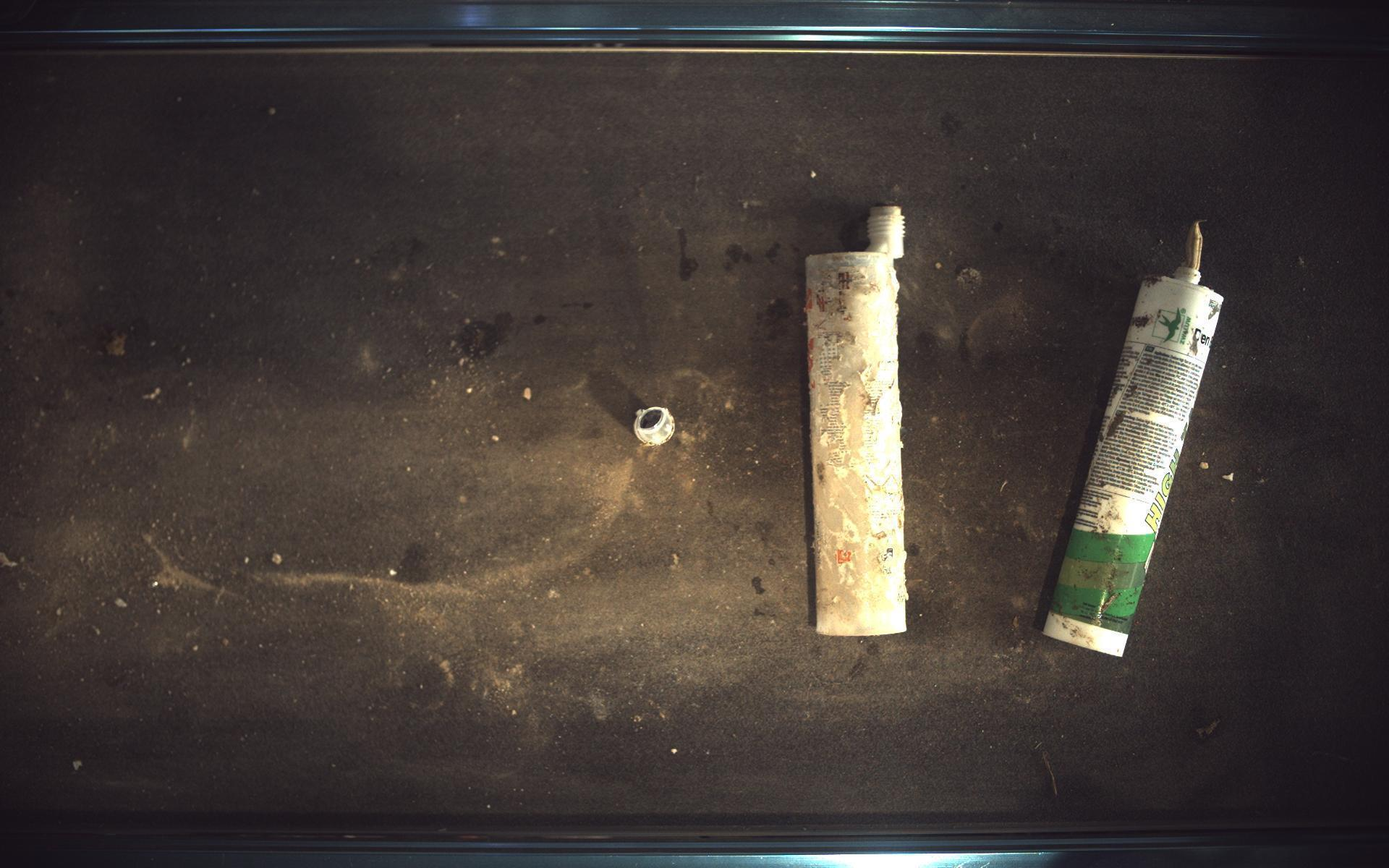plastic: (807, 205, 909, 637), (634, 407, 676, 446)
